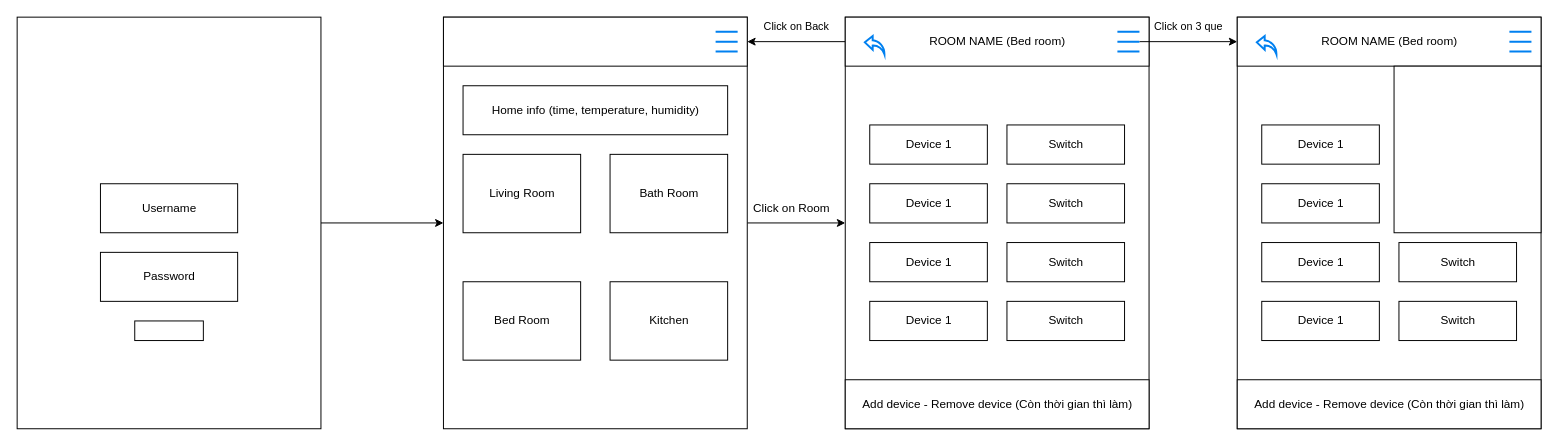
The diagram is 1558 pixels wide and 446 high, and some of its shapes have lost their labels. The box of each missing label's shape, as (x1, y1, x2, y2) in pixels:
Login button: (134, 320, 203, 341)
User info Settings Loggout (Hmmm, không biết làm kịp không): (1393, 65, 1541, 233)
username's Home: (442, 16, 747, 66)
